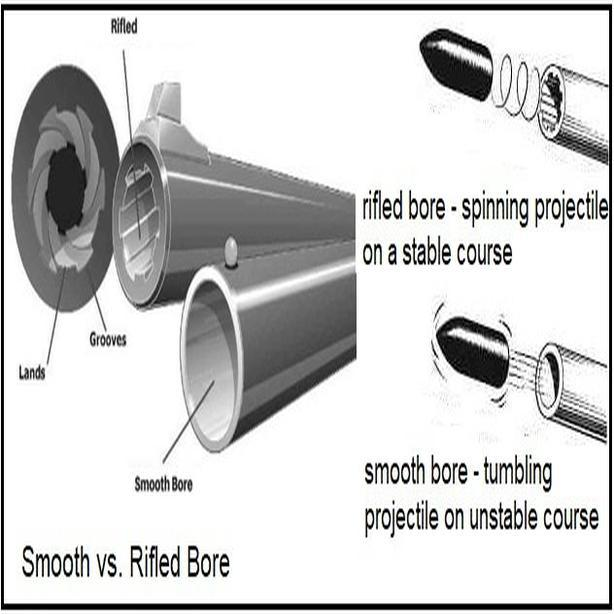Firearm: (48, 61, 358, 476)
